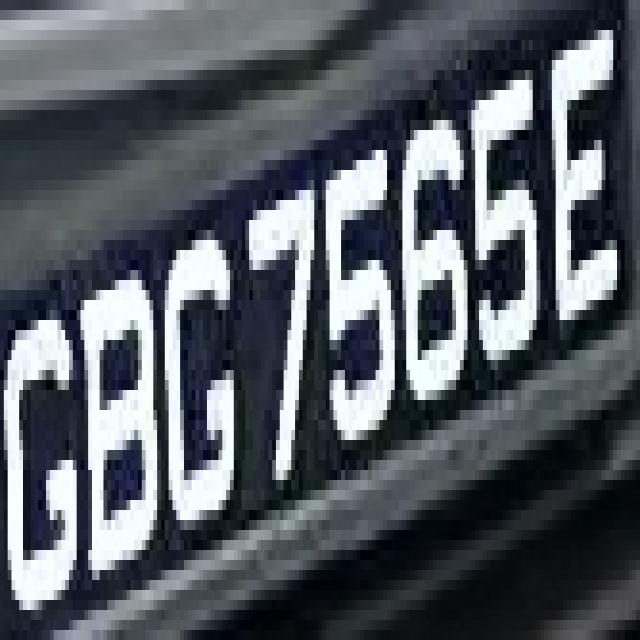5: (460, 60, 544, 410), (318, 130, 395, 460)
6: (383, 80, 475, 450)
7: (230, 180, 318, 520)
B: (69, 270, 165, 600)
E: (548, 30, 629, 370)
G: (161, 230, 245, 570), (4, 280, 80, 610)
